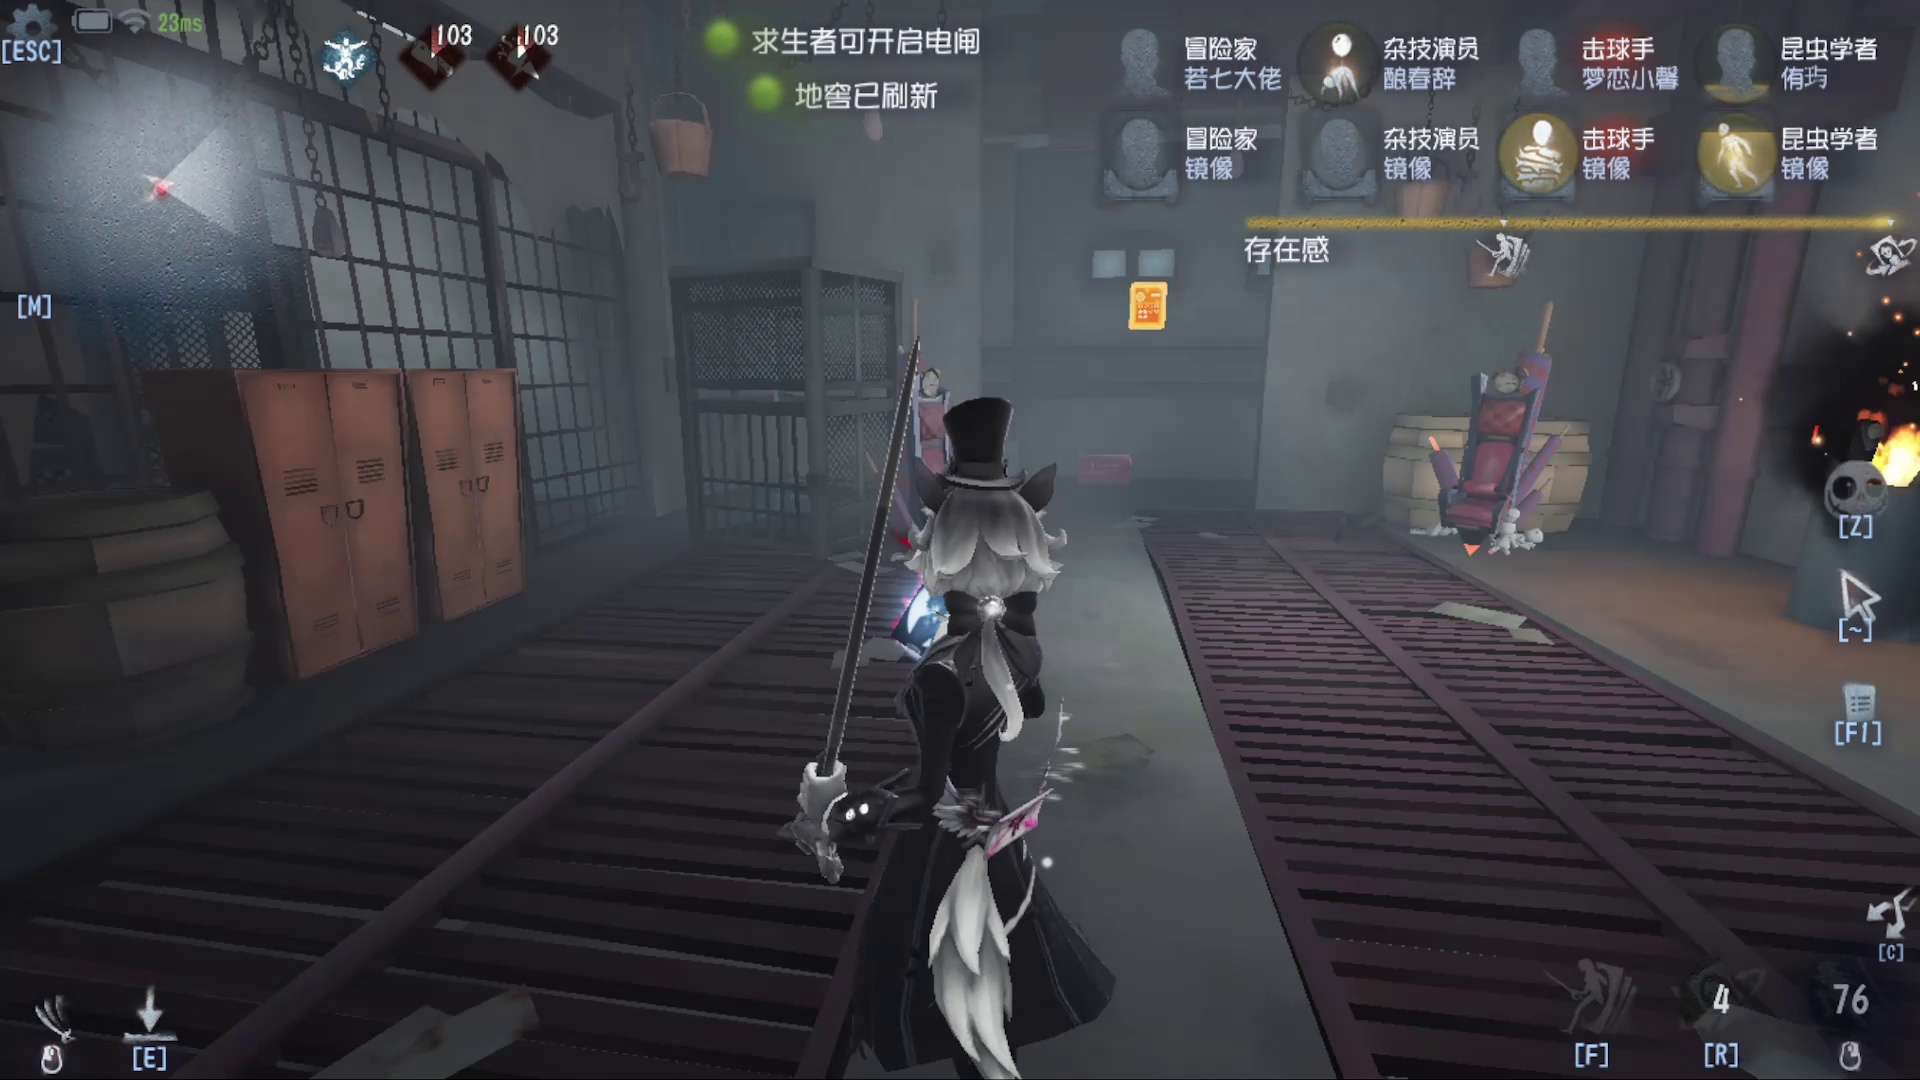狂欢之椅: (1414, 342, 1584, 576)
